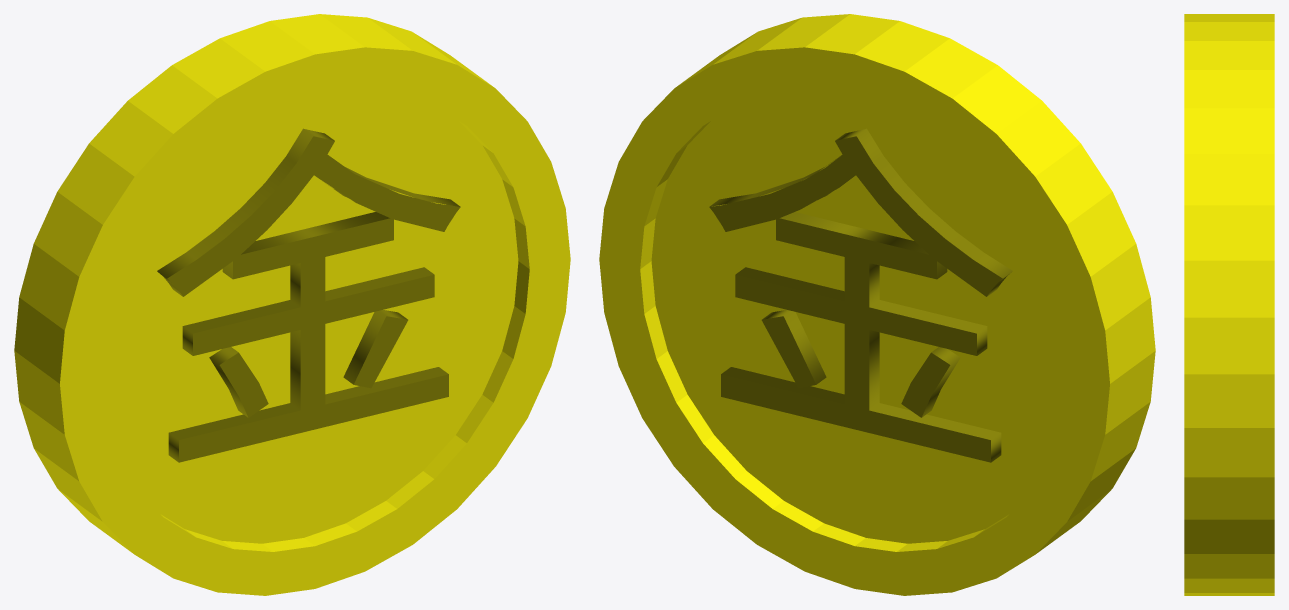
The model's file is coin.fbx.
The picture shows the model from 3 angles, left to right: view 1: azimuth 30°, elevation 25°; view 2: azimuth 150°, elevation 25°; view 3: azimuth 270°, elevation 25°; orthographic projection.
Parts seen in each view (by area): view 1: 円柱, テキスト; view 2: 円柱, テキスト; view 3: 円柱.
Boxes of the visible parts, x1,y1,x2,y2 form: 円柱: (14, 14, 570, 595); テキスト: (157, 128, 460, 462); 円柱: (599, 14, 1155, 595); テキスト: (709, 128, 1012, 462); 円柱: (1184, 14, 1274, 595).
Size of the model in its own units: 0.6304 by 0.6304 by 0.0974.
